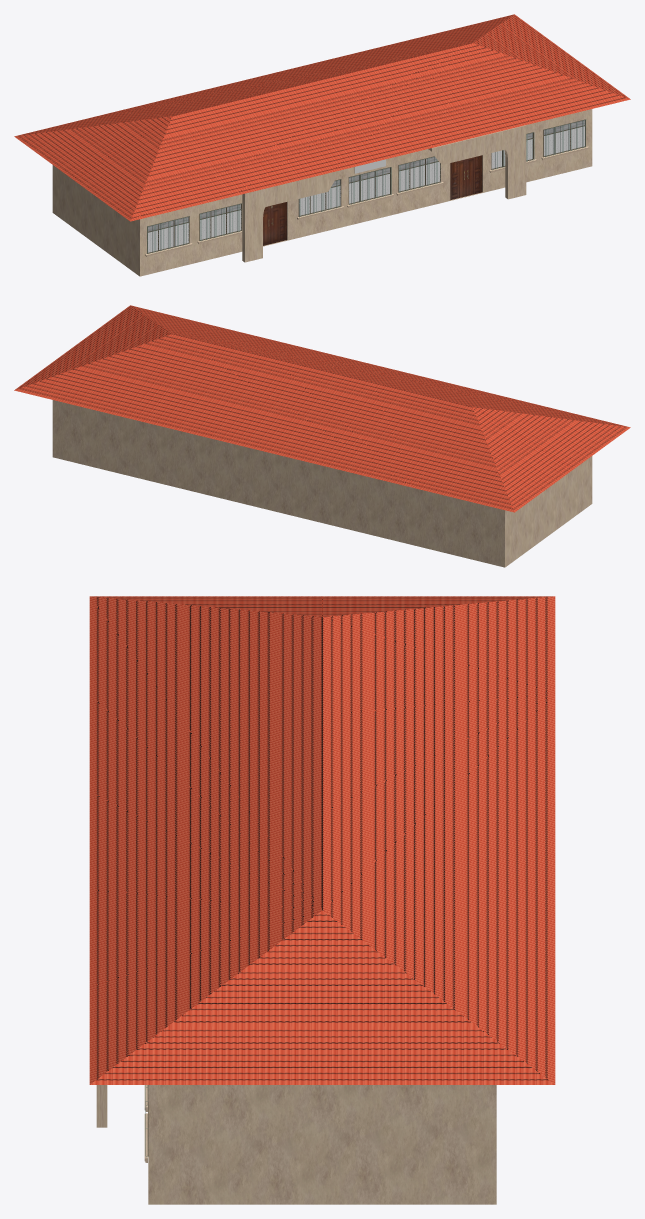
Rendered from long short building.fbx.
3 renders of one model, top to bottom at view 1: azimuth 30°, elevation 25°; view 2: azimuth 150°, elevation 25°; view 3: azimuth 270°, elevation 25°, orthographic. The views are drawn at different scales.
Visible parts, largest first — view 1: Cube.005, Cube.002, Cube.003, Cube.010, Cube.007, Cube.006, Cube.060, Cube.089, Cube.030, Cube.104, Cube.014, Cube.068 (+5 smaller); view 2: Cube.005, Cube.002; view 3: Cube.005, Cube.002.
Part boxes in pixels (x1,y1,x2,y2): Cube.005: (14, 14, 630, 221); Cube.002: (52, 109, 592, 276); Cube.003: (428, 125, 526, 199); Cube.010: (242, 171, 339, 262); Cube.007: (450, 155, 482, 199); Cube.006: (263, 202, 286, 245); Cube.060: (544, 126, 584, 155); Cube.089: (200, 210, 241, 239); Cube.030: (399, 162, 440, 191); Cube.104: (148, 223, 188, 252); Cube.014: (349, 174, 389, 203); Cube.068: (299, 186, 340, 215); Cube.005: (14, 305, 630, 512); Cube.002: (52, 400, 592, 567); Cube.005: (89, 596, 555, 1084); Cube.002: (148, 1085, 496, 1204).
Size of the model in its own units: 2456 by 516 by 989.
